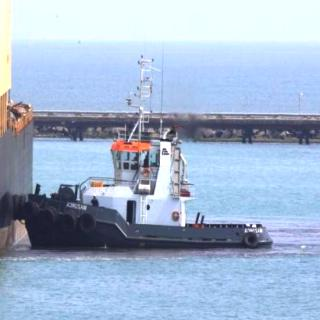Tug Boat: (9, 61, 274, 250)
